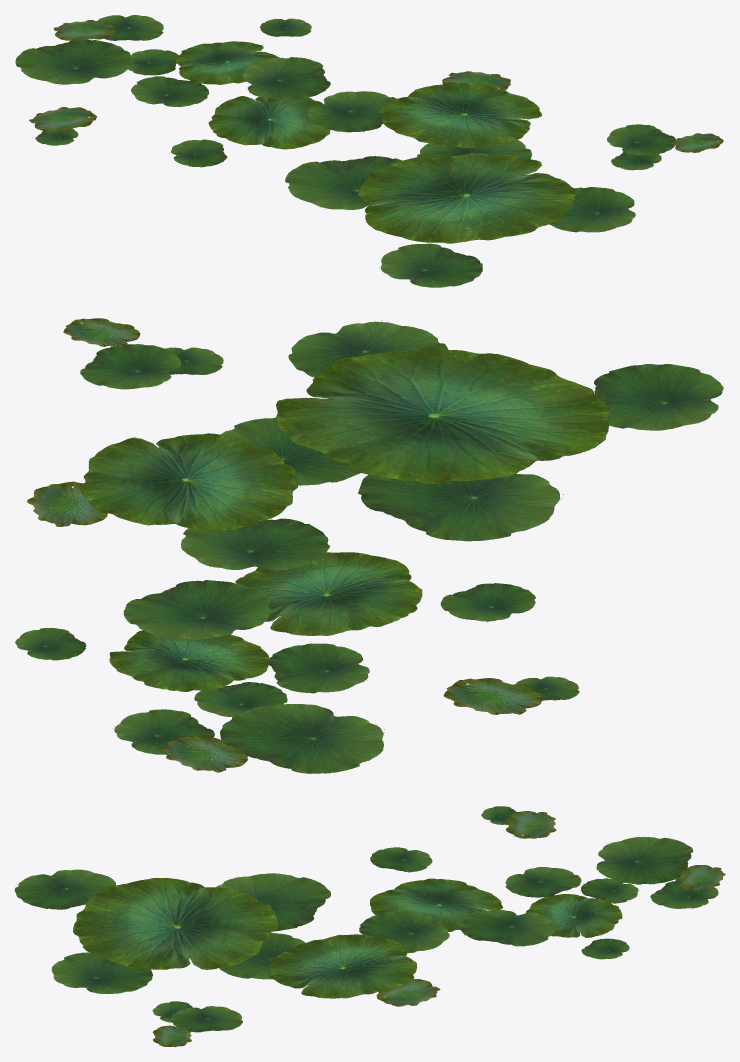
The model's file is ZYtree_gg_heye01.FBX.
3 renders of one model, top to bottom at view 1: azimuth 30°, elevation 25°; view 2: azimuth 150°, elevation 25°; view 3: azimuth 270°, elevation 25°, orthographic. The views are drawn at different scales.
Parts seen in each view (by area): view 1: ZYtree_gg_heye01; view 2: ZYtree_gg_heye01; view 3: ZYtree_gg_heye01.
Boxes of the visible parts, box(x1,y1,x2,y2) form: ZYtree_gg_heye01: box(15, 15, 723, 287); ZYtree_gg_heye01: box(15, 318, 723, 773); ZYtree_gg_heye01: box(14, 806, 725, 1047).
Size of the model in its own units: 2500 by 52.75 by 3073.
